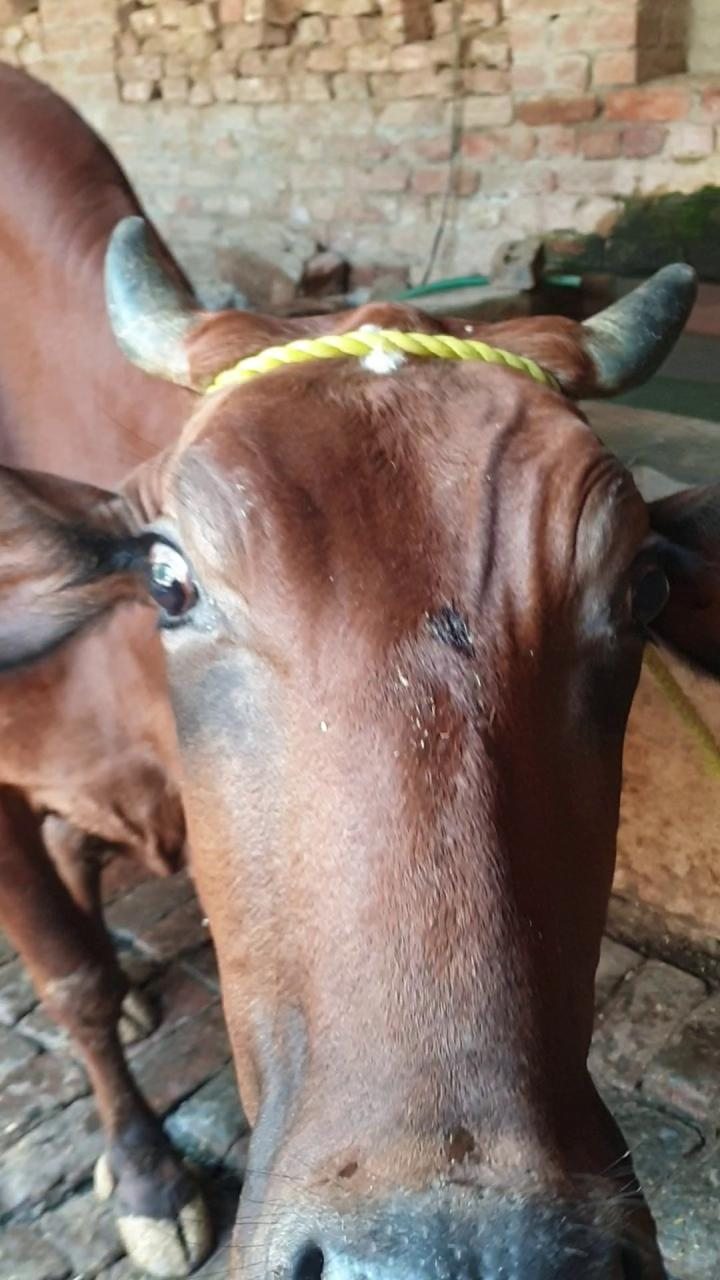cows: (118, 275, 720, 1280)
